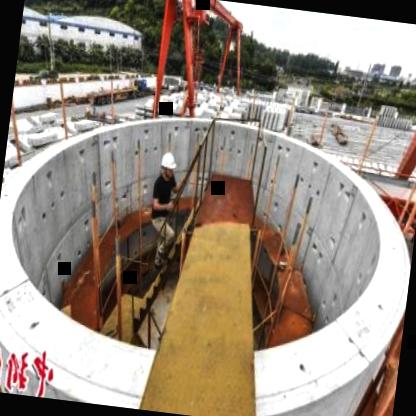helmet: (157, 148, 179, 182)
